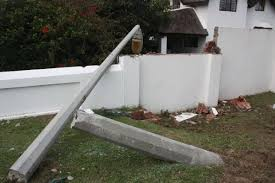light_pole: (2, 36, 147, 175), (70, 109, 236, 175)
